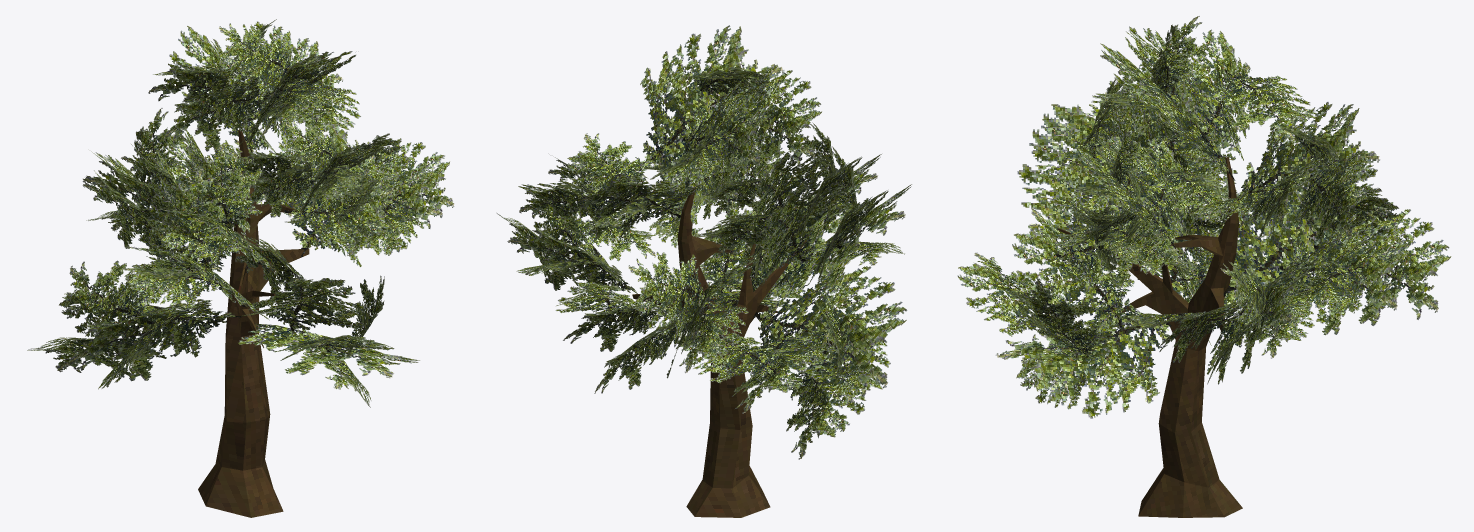
Rendered from boom.glb.
The picture shows the model from 3 angles, left to right: view 1: azimuth 30°, elevation 25°; view 2: azimuth 150°, elevation 25°; view 3: azimuth 270°, elevation 25°; orthographic projection. The views are drawn at different scales.
Parts seen in each view (by area): view 1: Plane.001; view 2: Plane.001; view 3: Plane.001.
Part boxes in pixels (x1,y1,x2,y2): Plane.001: (27,19,454,517); Plane.001: (497,25,911,517); Plane.001: (957,16,1451,517).
Size of the model in its own units: 15.52 by 16.83 by 16.
Materials: 1 (1 with a texture image).
